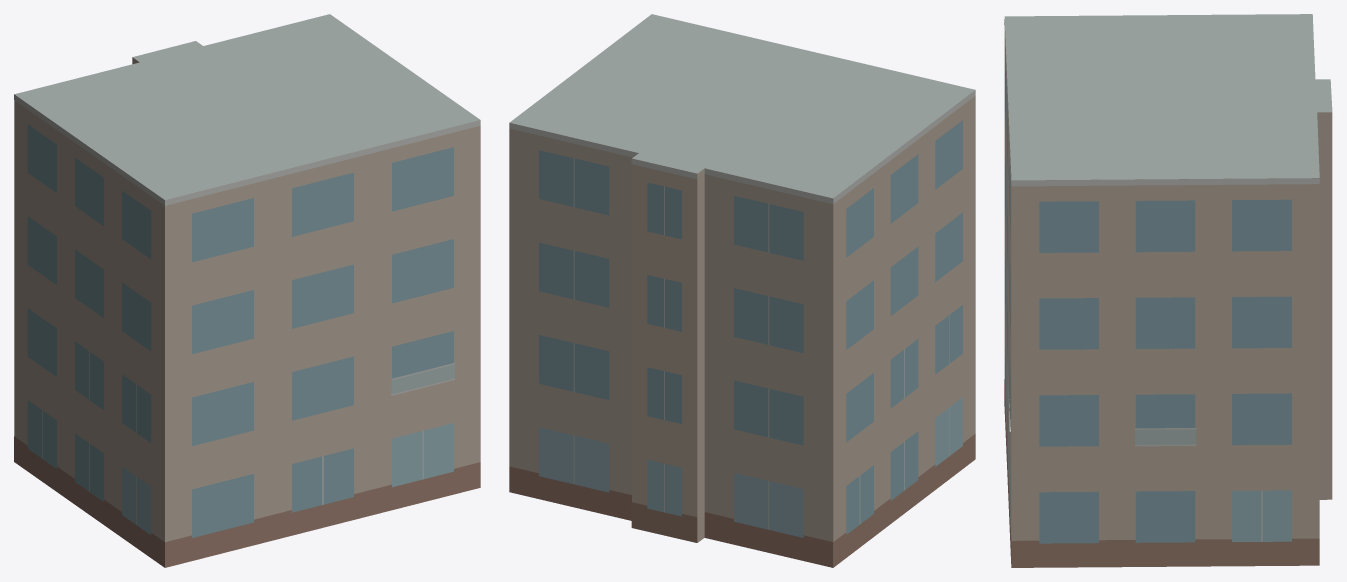
Rendered from survey-upis-32531208.glb.
The picture shows the model from 3 angles, left to right: view 1: azimuth 30°, elevation 25°; view 2: azimuth 150°, elevation 25°; view 3: azimuth 270°, elevation 25°; orthographic projection. The views are drawn at different scales.
Parts seen in each view (by area): view 1: survey-upis-32531208.tmp; view 2: survey-upis-32531208.tmp; view 3: survey-upis-32531208.tmp.
Boxes of the visible parts, x1,y1,x2,y2 form: survey-upis-32531208.tmp: [14, 14, 480, 567]; survey-upis-32531208.tmp: [509, 14, 975, 567]; survey-upis-32531208.tmp: [1004, 14, 1332, 567].
Bounding box in the file's own units: 14.47 × 15.7 × 12.05.
